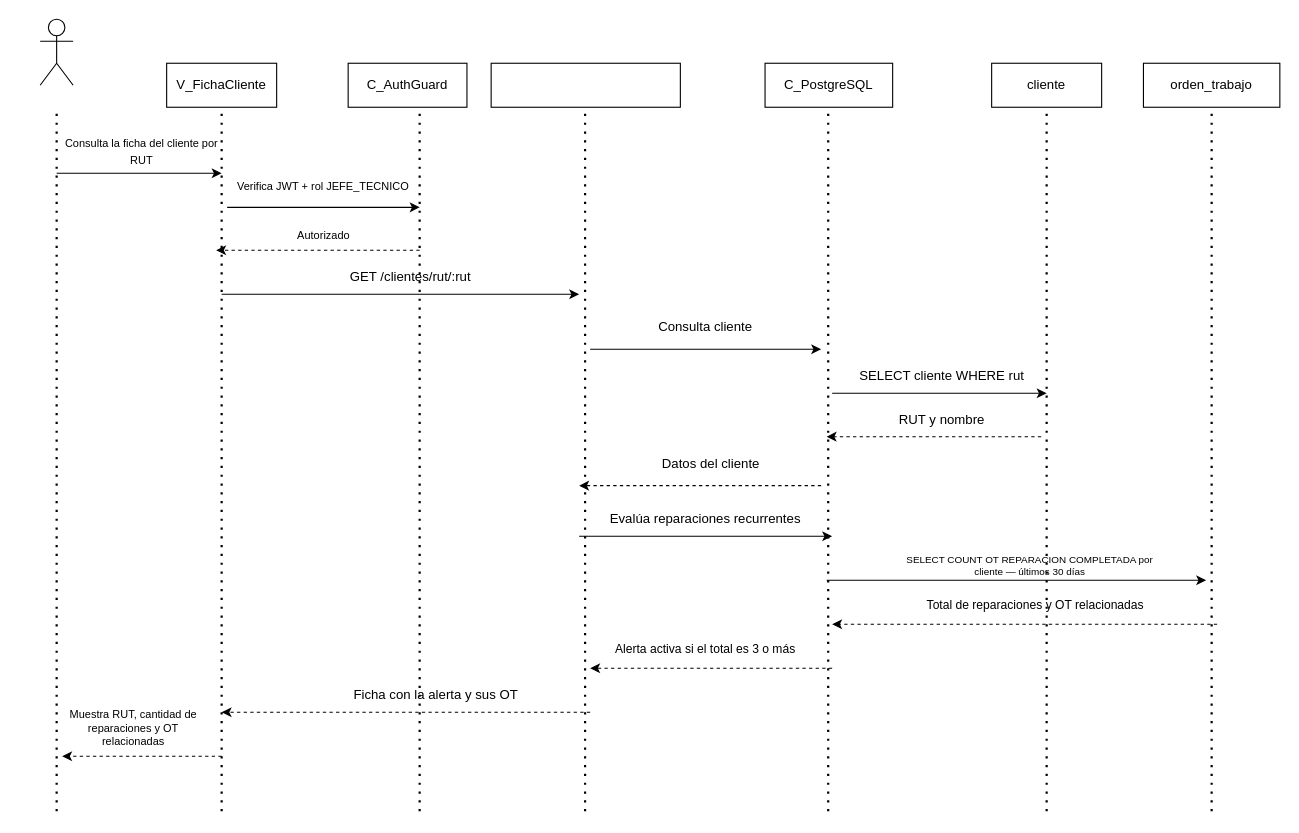
This 1299x833 diagram has some shape labels left out. Here are the shapes that lost their labels. From the top down, the centre of each, then its label:
At point 56,51: "Jefe Técnico".
At point 585,84: "C_ClienteController".
